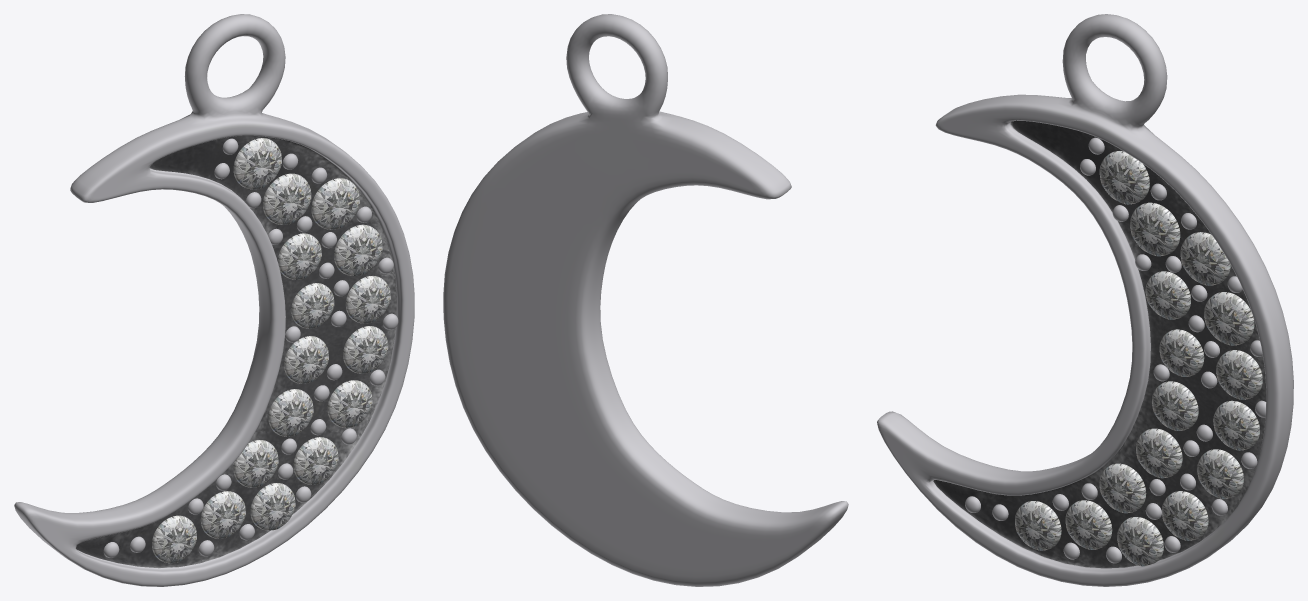
The model's file is lua.glb.
The picture shows the model from 3 angles, left to right: view 1: azimuth 30°, elevation 25°; view 2: azimuth 150°, elevation 25°; view 3: azimuth 330°, elevation 25°; orthographic projection. The views are drawn at different scales.
Parts seen in each view (by area): view 1: moon_5; view 2: moon_5; view 3: moon_5.
Boxes of the visible parts, x1,y1,x2,y2 form: moon_5: [14, 14, 414, 586]; moon_5: [443, 14, 848, 586]; moon_5: [877, 14, 1293, 586].
Bounding box in the file's own units: 0.1313 × 0.1762 × 0.0106.
Materials: 2 (2 with a texture image).
